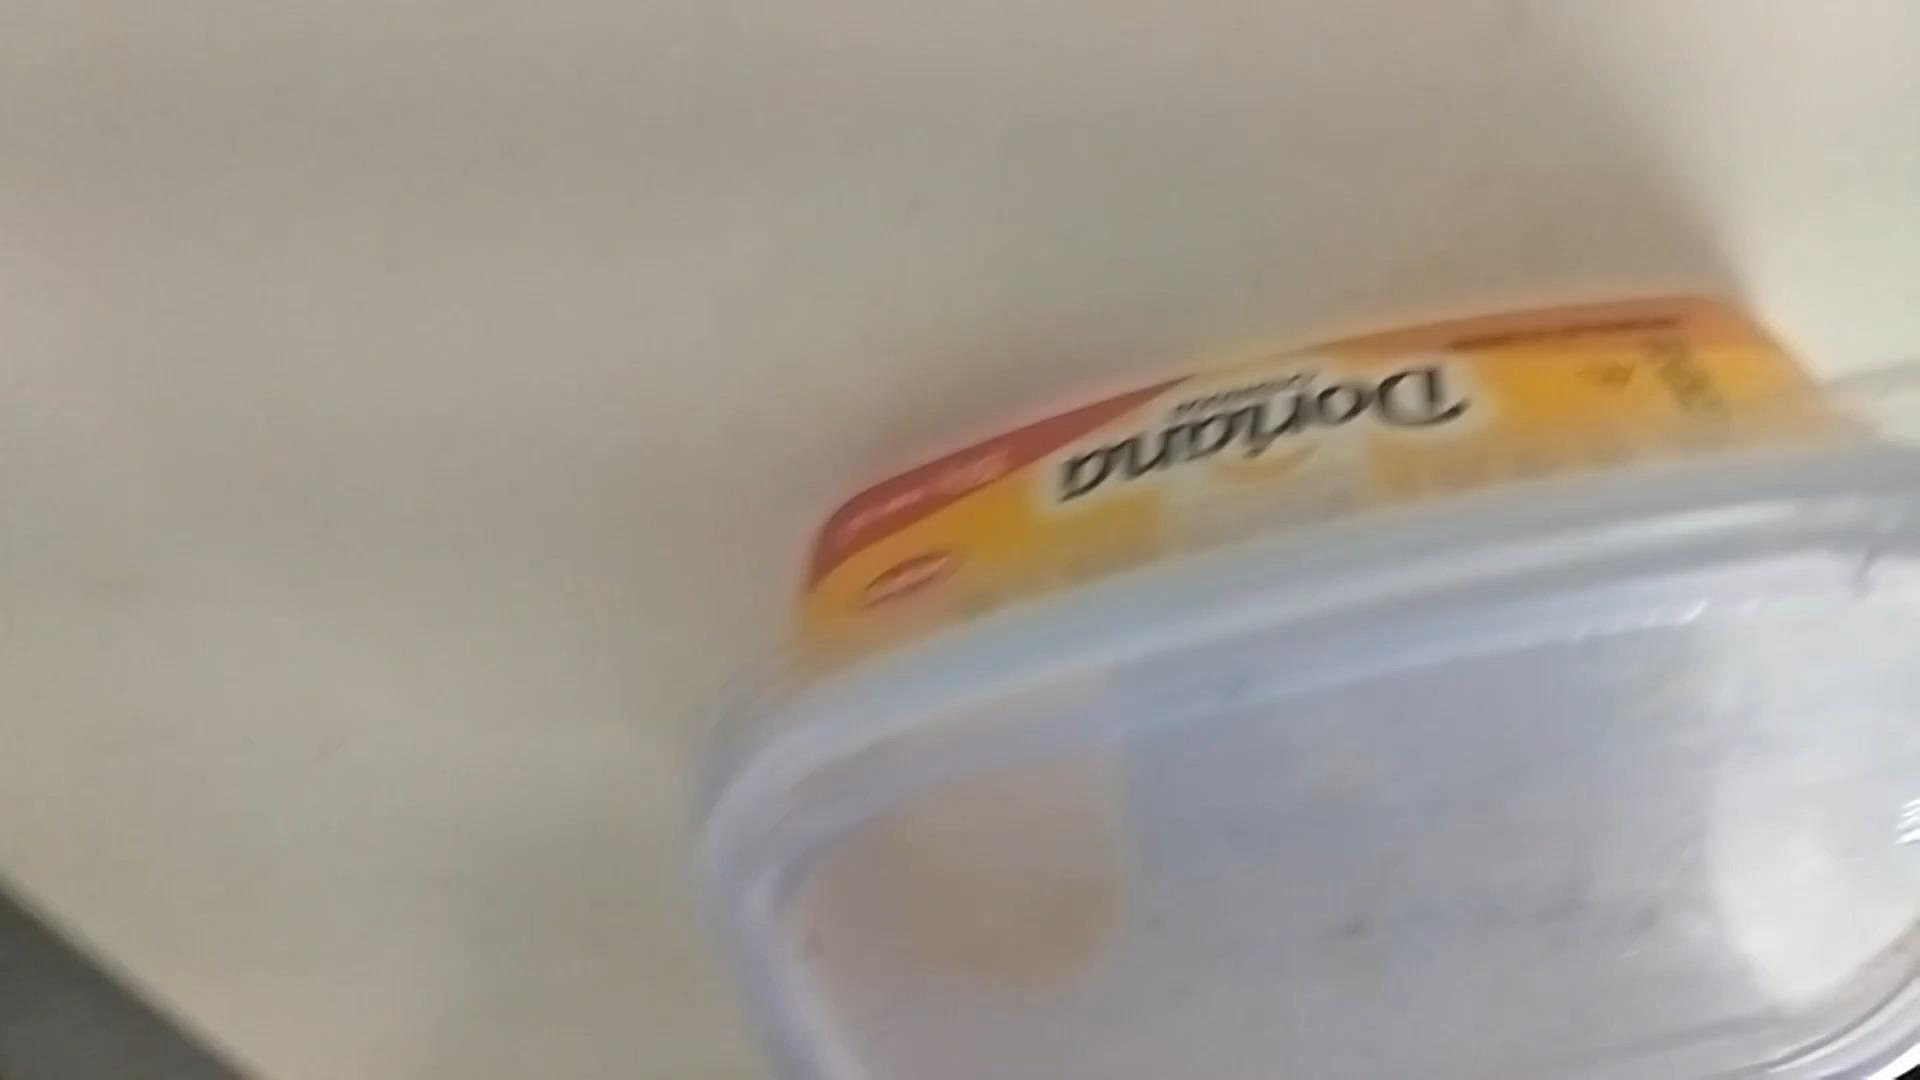butter: (695, 297, 1920, 1076)
